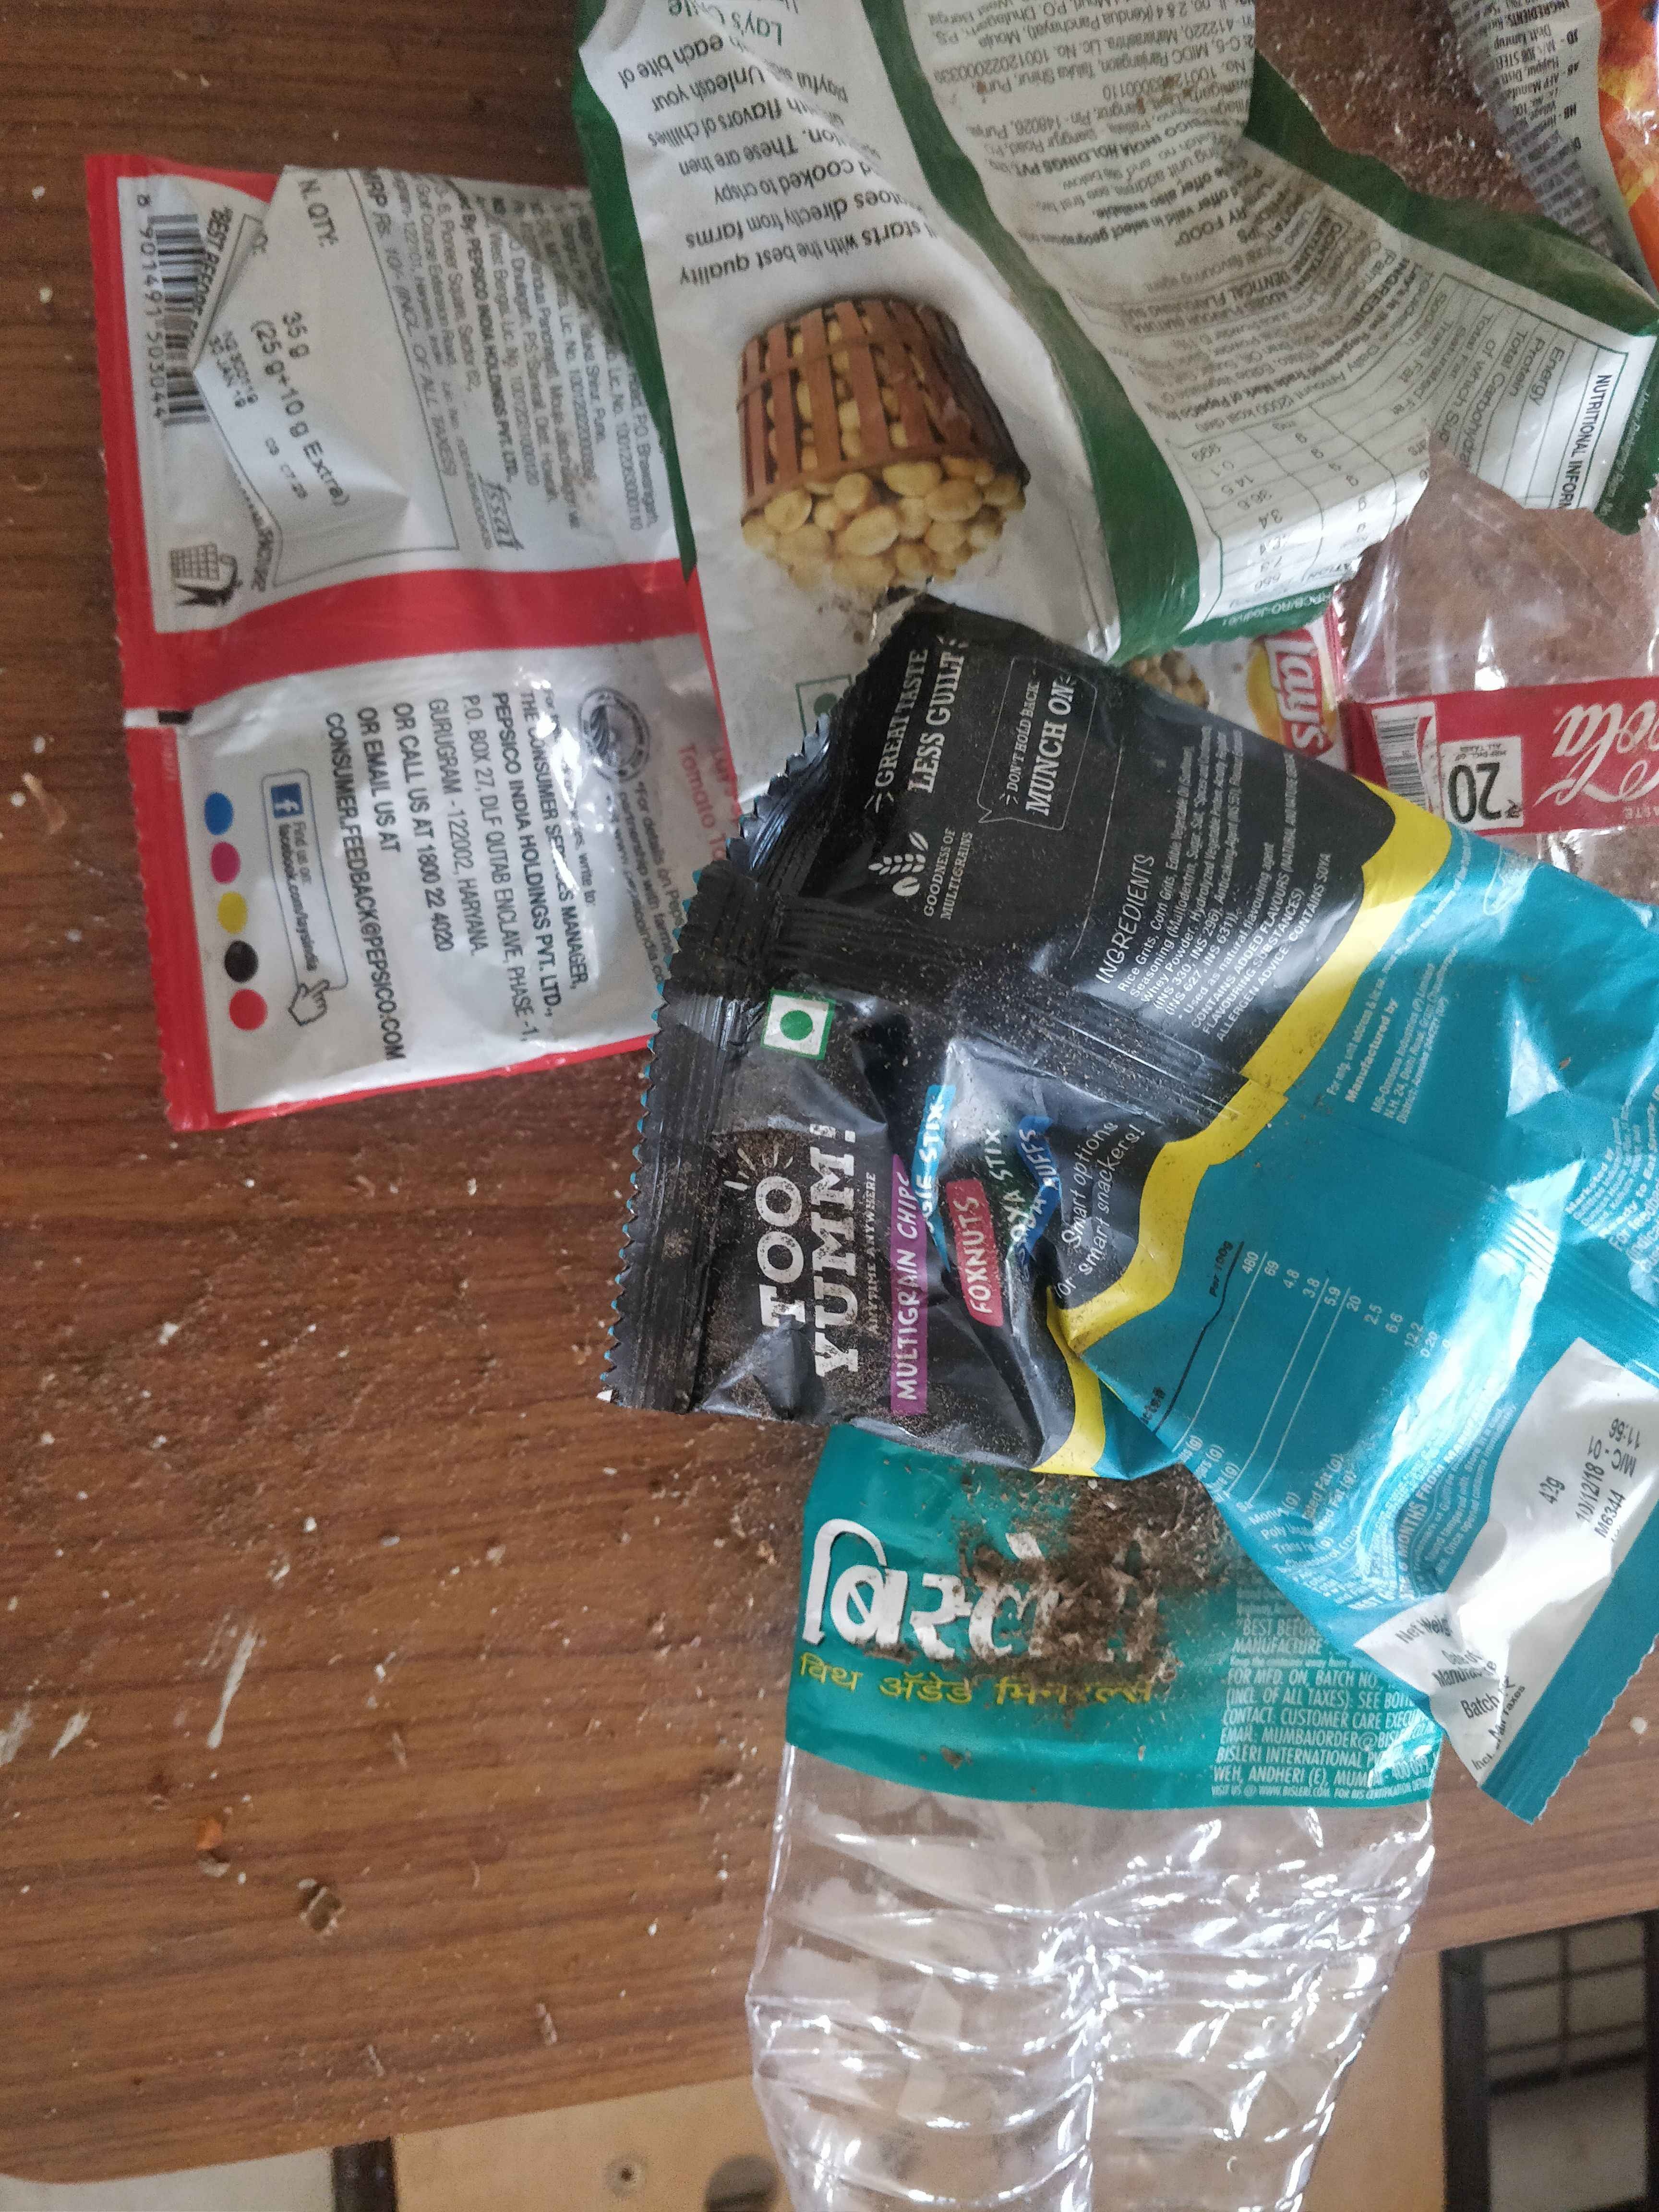Bisleri: (823, 1433, 1439, 1801)
Coca-Cola: (1415, 690, 1659, 826)
Lays: (1220, 597, 1389, 768)
tooyumm: (723, 1062, 911, 1433)
